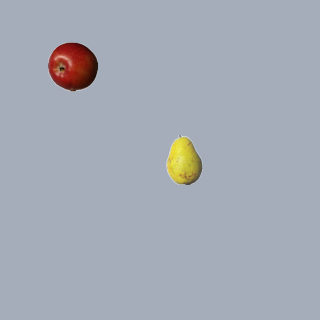Apple Braeburn: (47, 41, 97, 91)
Pear Monster: (159, 134, 209, 184)
